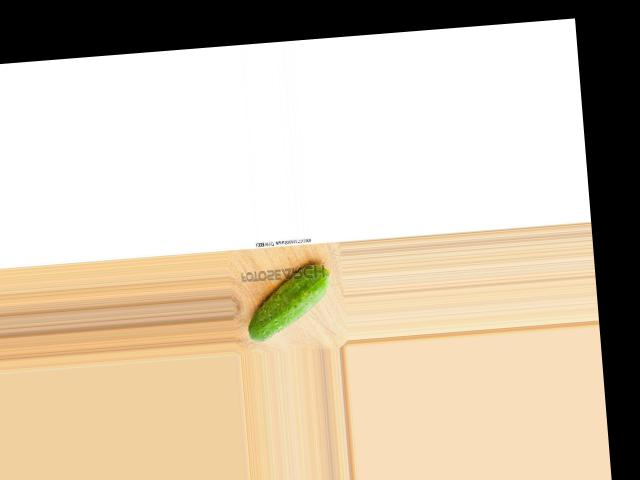cucumber: (243, 262, 336, 342)
